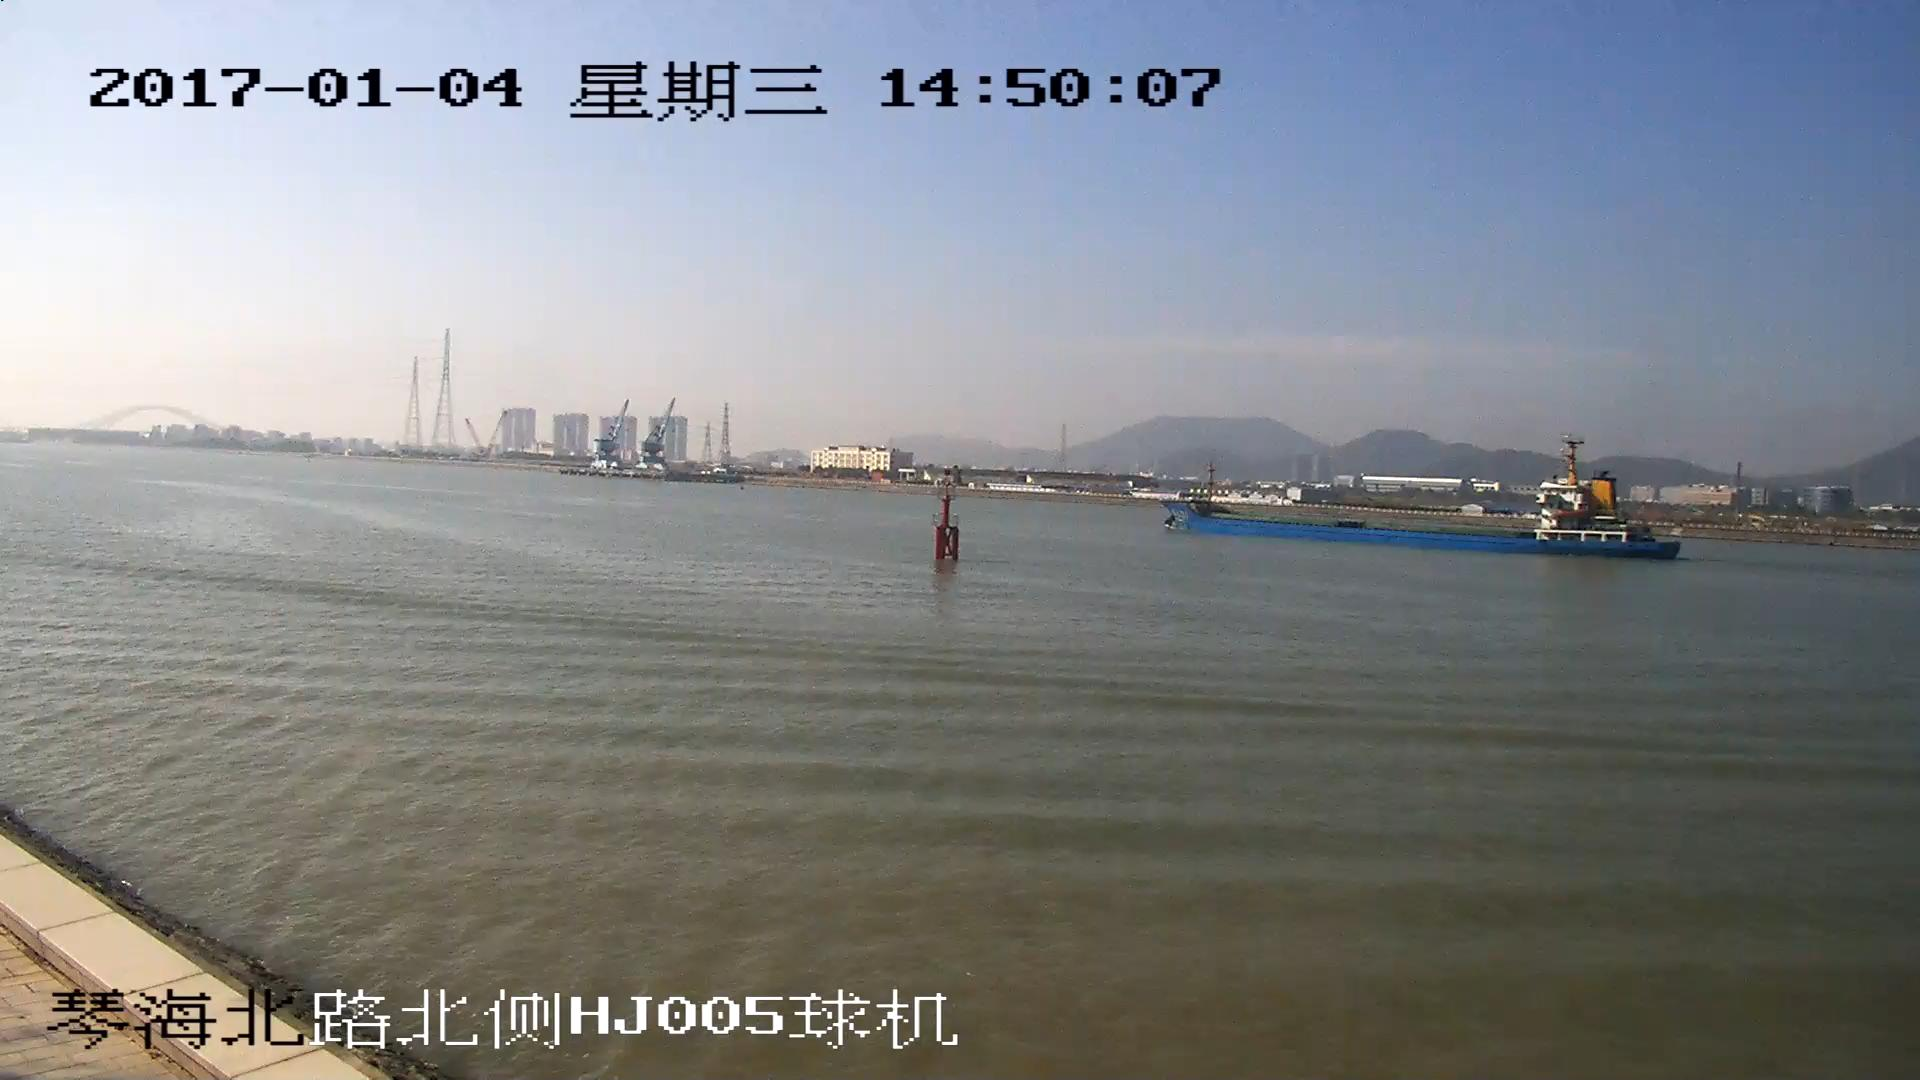general cargo ship: (1162, 438, 1683, 562)
